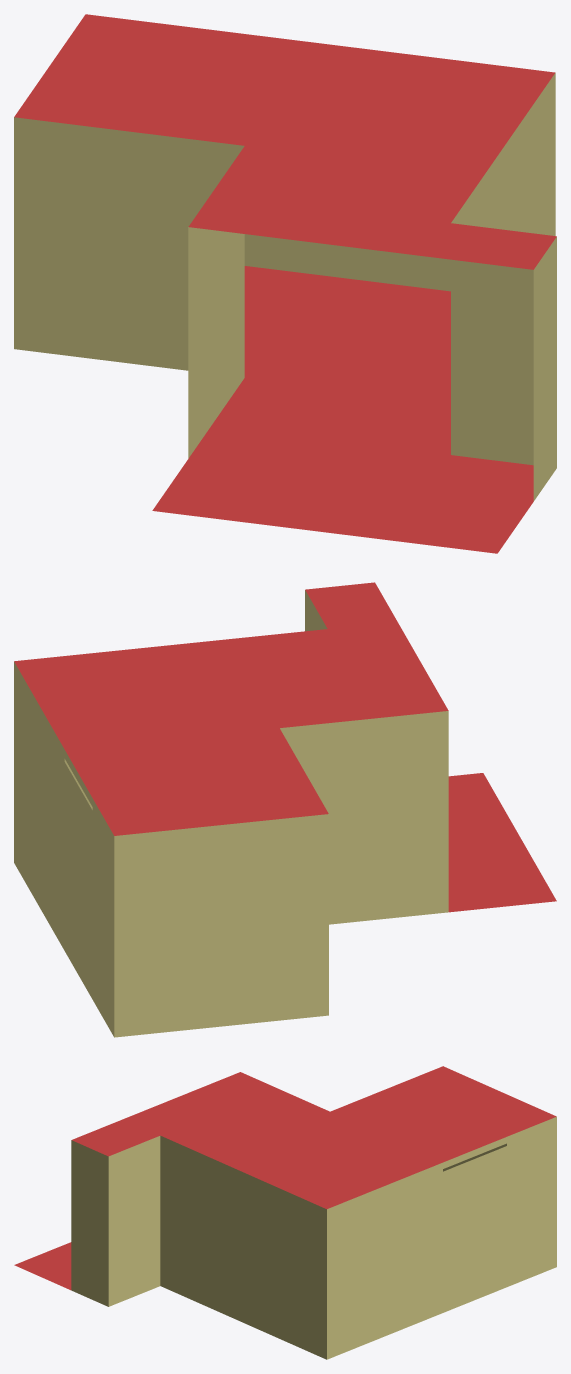
3 renders of one model, top to bottom at view 1: azimuth 30°, elevation 25°; view 2: azimuth 150°, elevation 25°; view 3: azimuth 270°, elevation 25°, orthographic. The views are drawn at different scales.
Size of the model in its own units: 13.92 by 19.62 by 6.
